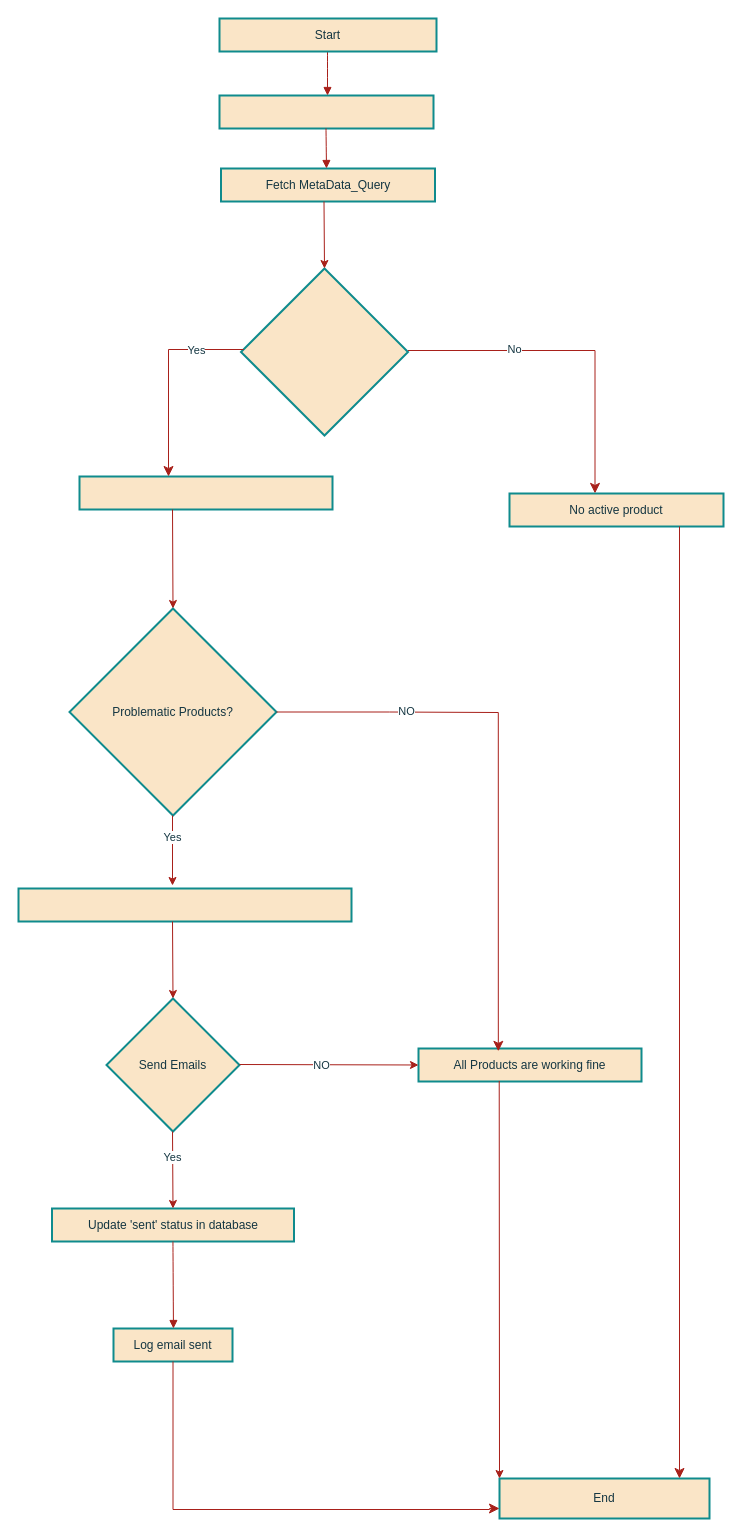
The diagram is 741 pixels wide and 1537 high, and some of its shapes have lost their labels. Each missing label, with the box of its shape:
Active Products?: (240, 267, 408, 436)
Create SQLAlchemy engines: (218, 94, 434, 129)
Fetch problematic products and mail details: (17, 887, 352, 922)
Update and Insert last transaction datetime: (78, 475, 333, 510)
